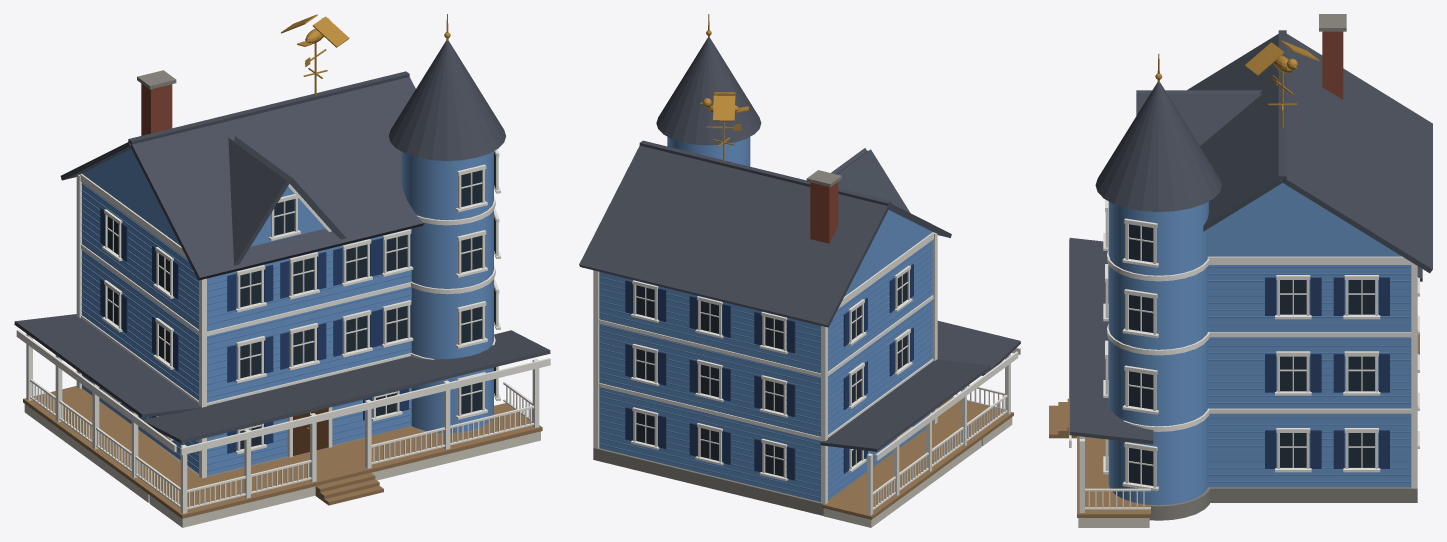
File: big_house.glb
The picture shows the model from 3 angles, left to right: view 1: azimuth 30°, elevation 25°; view 2: azimuth 150°, elevation 25°; view 3: azimuth 270°, elevation 25°; orthographic projection. The views are drawn at different scales.
Visible parts, largest first — view 1: ROOF_main_front, BODY_walls, TURRET_body, PORCH_roof_front, PORCH_deck_front, BODY_clapboards, TURRET_roof, PORCH_roof_left, PORCH_railing, PORCH_deck_left, ATTIC_roof_left, PORCH_skirt_front (+33 smaller); view 2: ROOF_main_back, BODY_walls, BODY_clapboards, PORCH_roof_left, TURRET_roof, PORCH_deck_left, BODY_foundation, PORCH_roof_front, BODY_gable_ends, PORCH_railing, ATTIC_roof_left, TRIM_floor_band_1 (+25 smaller); view 3: BODY_walls, ROOF_main_back, TURRET_body, TURRET_roof, BODY_clapboards, ROOF_main_front, PORCH_roof_front, BODY_gable_ends, BODY_foundation, ATTIC_roof_right, PORCH_deck_front, WIN_right_0_0.4 (+23 smaller).
Part boxes in pixels (x1,y1,x2,y2): ROOF_main_front: [130, 77, 424, 280]; BODY_walls: [82, 182, 411, 475]; TURRET_body: [401, 151, 493, 432]; PORCH_roof_front: [143, 330, 550, 443]; PORCH_deck_front: [148, 403, 542, 518]; BODY_clapboards: [81, 183, 411, 471]; TURRET_roof: [388, 40, 505, 160]; PORCH_roof_left: [14, 314, 201, 417]; PORCH_railing: [30, 379, 534, 509]; PORCH_deck_left: [23, 386, 199, 493]; ATTIC_roof_left: [228, 138, 289, 265]; PORCH_skirt_front: [149, 431, 540, 527]; ROOF_main_back: [579, 145, 889, 327]; BODY_walls: [599, 240, 932, 501]; BODY_clapboards: [599, 241, 932, 498]; PORCH_roof_left: [820, 359, 990, 451]; TURRET_roof: [656, 38, 761, 145]; PORCH_deck_left: [822, 423, 983, 519]; BODY_foundation: [593, 448, 823, 515]; PORCH_roof_front: [937, 321, 1020, 375]; BODY_gable_ends: [844, 210, 932, 296]; PORCH_railing: [873, 384, 1007, 509]; ATTIC_roof_left: [836, 149, 910, 212]; TRIM_floor_band_1: [598, 295, 933, 377]; BODY_walls: [1208, 265, 1411, 487]; ROOF_main_back: [1282, 34, 1432, 273]; TURRET_body: [1108, 201, 1208, 505]; TURRET_roof: [1095, 82, 1221, 211]; BODY_clapboards: [1207, 266, 1410, 482]; ROOF_main_front: [1187, 34, 1282, 231]; PORCH_roof_front: [1069, 237, 1153, 444]; BODY_gable_ends: [1208, 183, 1401, 256]; BODY_foundation: [1210, 487, 1417, 502]; ATTIC_roof_right: [1136, 93, 1262, 145]; PORCH_deck_front: [1077, 436, 1150, 517]; WIN_right_0_0.4: [1265, 428, 1321, 472].
Size of what is drawn, in the model's own units: 17.55 by 18.6 by 14.55.
